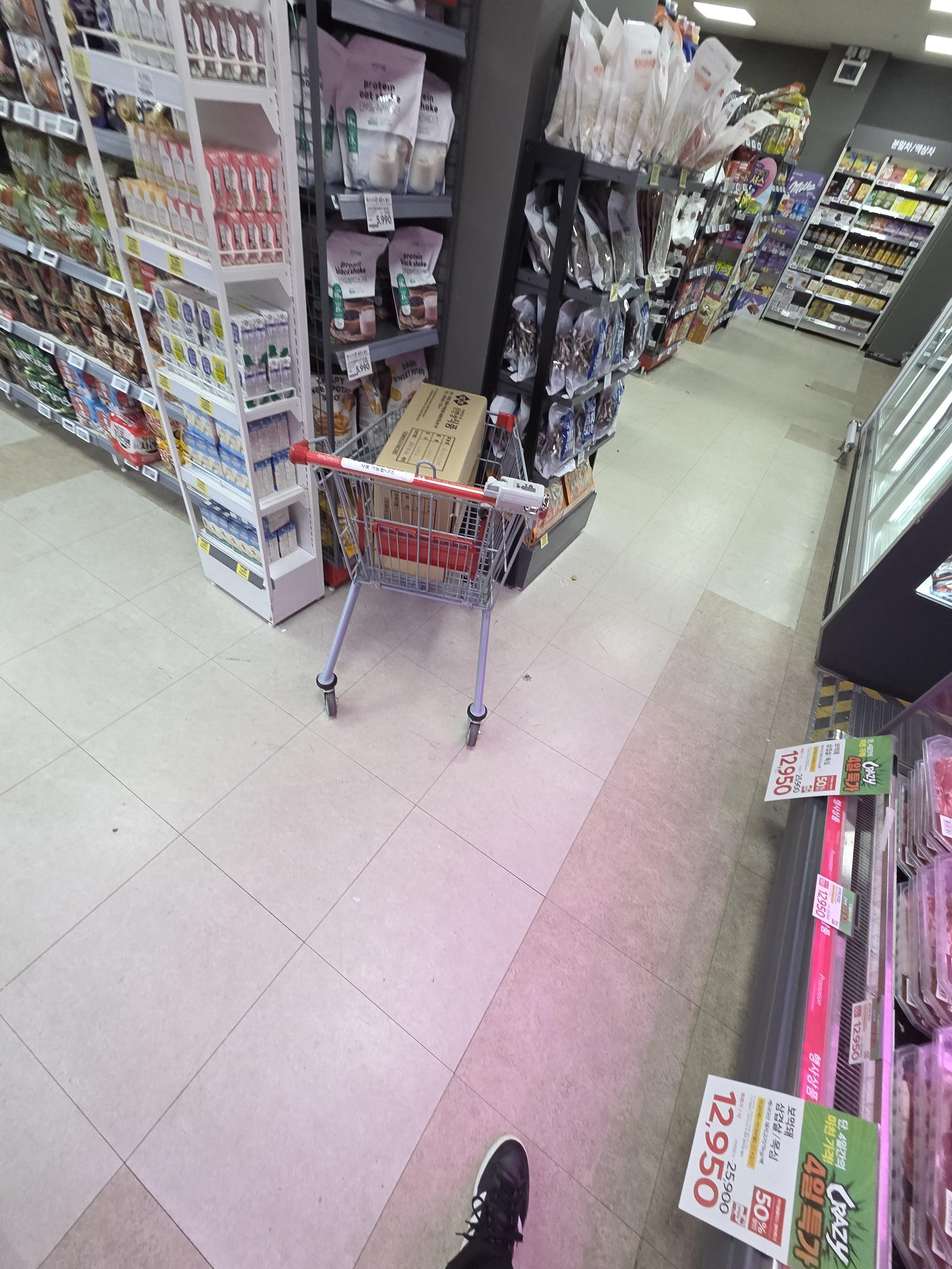fully_cart: (273, 374, 560, 763)
